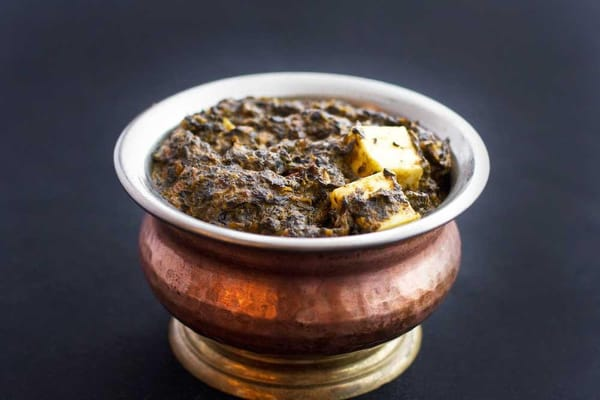sushi: (113, 77, 486, 376)
